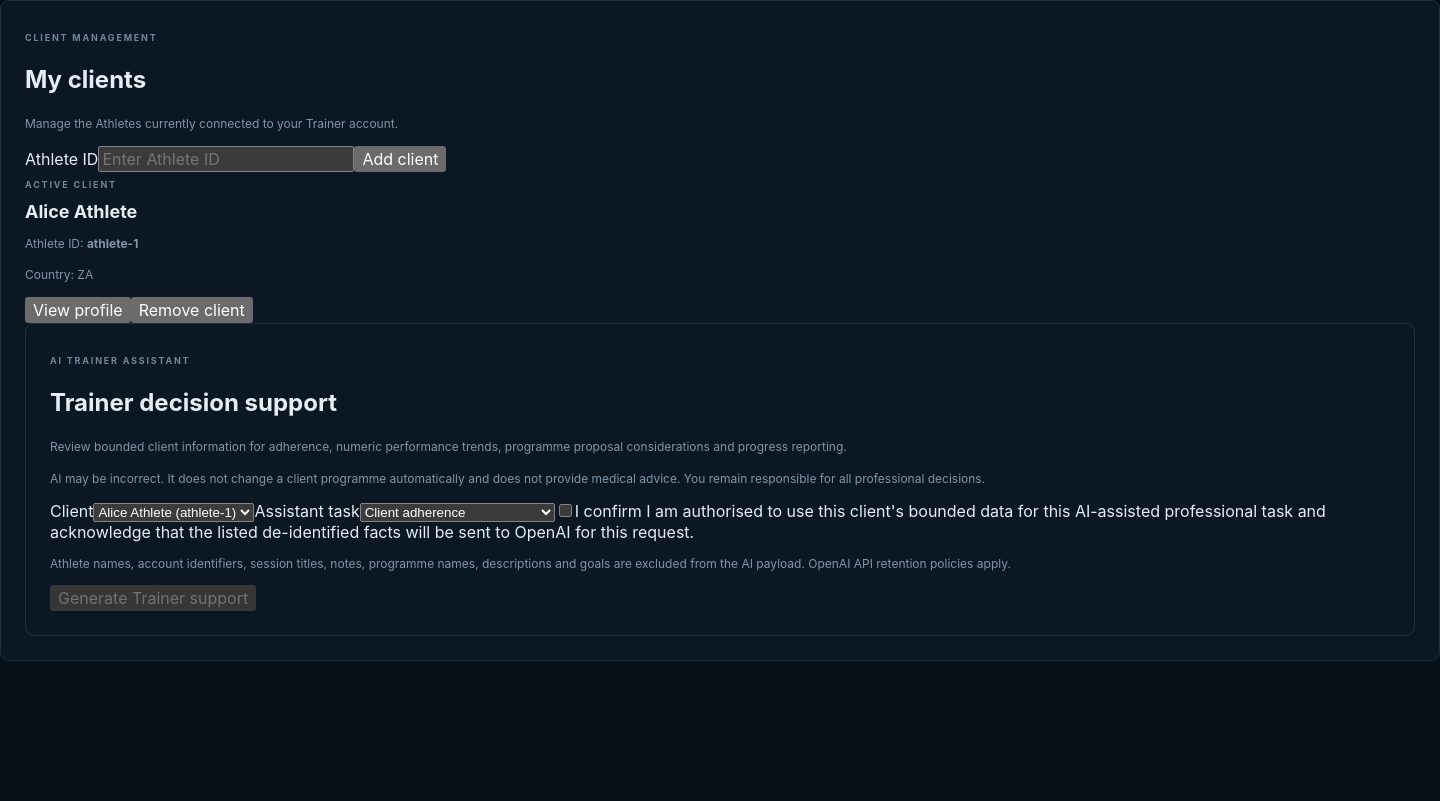
Test: TrainerClientManagement › loads the bounded client profile
The width and height of the screenshot is (1440, 801).
Check: the heading "Alice Athlete" is shown, box [25, 201, 137, 222]
Click the button "View profile" at (78, 310), box [25, 297, 131, 323]
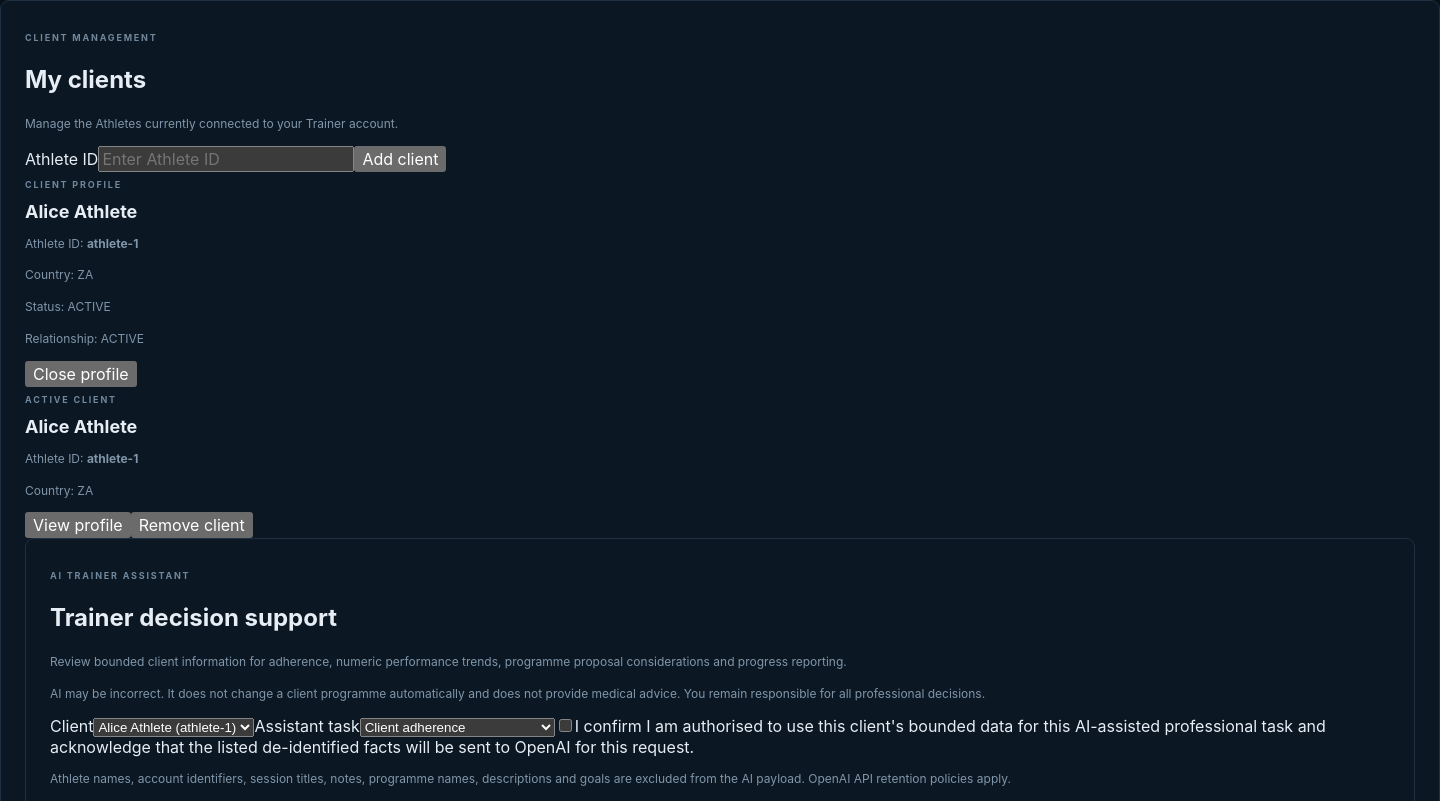
Check: the element "CLIENT PROFILE" is shown, box [25, 179, 144, 387]
Check: the text "Relationship: ACTIVE" is shown, box [25, 331, 144, 346]
Check: the button "Close profile" is shown, box [25, 361, 137, 387]
